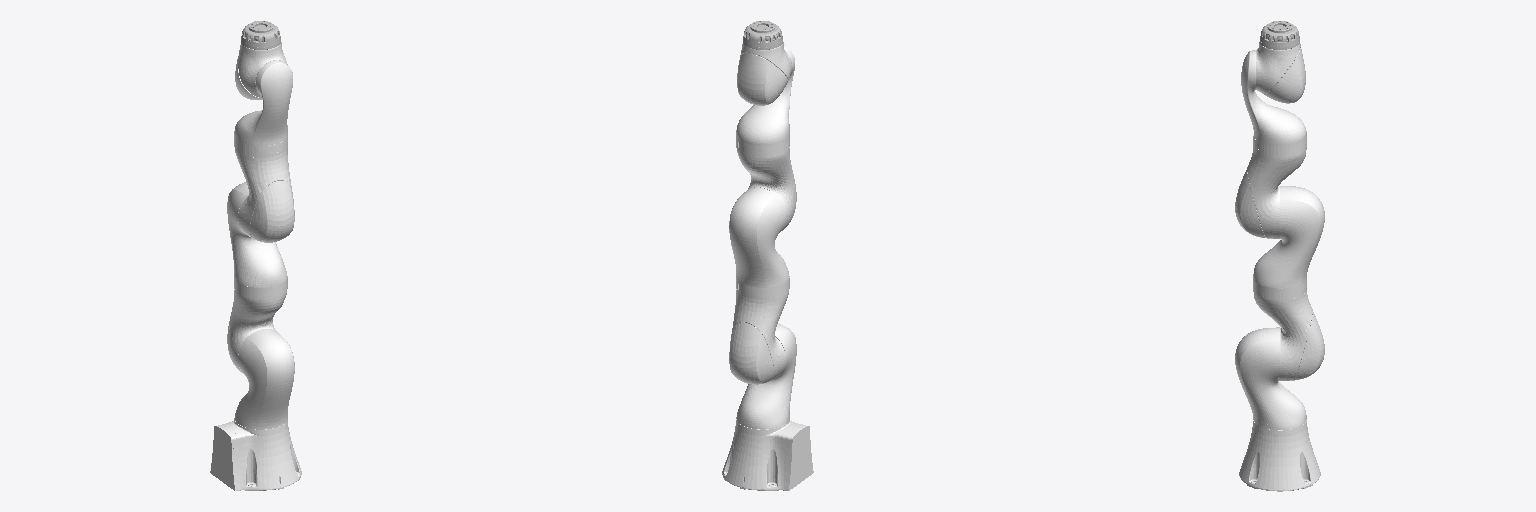
URDF robot description (iiwa7):
<?xml version="1.0" ?>
<!-- =================================================================================== -->
<!-- |    This document was autogenerated by xacro from iiwa7.urdf.xacro               | -->
<!-- |    EDITING THIS FILE BY HAND IS NOT RECOMMENDED                                 | -->
<!-- =================================================================================== -->
<robot name="iiwa7" xmlns:xacro="http://www.ros.org/wiki/xacro">
  <!-- Import Rviz colors -->
  <material name="Black">
    <color rgba="0.0 0.0 0.0 1.0"/>
  </material>
  <material name="Blue">
    <color rgba="0.0 0.0 0.8 1.0"/>
  </material>
  <material name="Green">
    <color rgba="0.0 0.8 0.0 1.0"/>
  </material>
  <material name="Grey">
    <color rgba="0.4 0.4 0.4 1.0"/>
  </material>
  <material name="Glas">
    <color rgba="0.4 0.4 0.4 0.1"/>
  </material>
  <material name="Orange">
    <color rgba="1.0 0.423529411765 0.0392156862745 1.0"/>
  </material>
  <material name="Brown">
    <color rgba="0.870588235294 0.811764705882 0.764705882353 1.0"/>
  </material>
  <material name="Red">
    <color rgba="0.8 0.0 0.0 1.0"/>
  </material>
  <material name="White">
    <color rgba="1.0 1.0 1.0 1.0"/>
  </material>
  <material name="Silver">
    <color rgba="0.82 0.82 0.82 1.0"/>
  </material>


  <link name="iiwa_link_0">
    <visual>
      <origin rpy="0 0 0" xyz="0 0 0"/>
      <geometry>
        <mesh filename="../meshes/iiwa7_third/visual/link_0.obj"/>
      </geometry>
      <material name="White"/>
    </visual>
  </link>
  <!-- joint between link_0 and link_1 -->
  <joint name="iiwa_joint_1" type="revolute">
    <parent link="iiwa_link_0"/>
    <child link="iiwa_link_1"/>
    <origin rpy="0 0 0" xyz="0 0 0.15"/>
    <axis xyz="0 0 1"/>
  </joint>
  <link name="iiwa_link_1">
    <visual>
      <origin rpy="0 0 0" xyz="0 0 0.0075"/>
      <geometry>
        <mesh filename="../meshes/iiwa7_third/visual/link_1.obj"/>
      </geometry>
      <material name="White"/>
    </visual>
  </link>
  <joint name="iiwa_joint_2" type="revolute">
    <parent link="iiwa_link_1"/>
    <child link="iiwa_link_2"/>
    <origin rpy="1.57079632679   0 3.14159265359" xyz="0 0 0.19"/>
    <axis xyz="0 0 1"/>
  </joint>
  <link name="iiwa_link_2">

    <visual>
      <origin rpy="0 0 0" xyz="0 0 0"/>
      <geometry>
        <mesh filename="../meshes/iiwa7_third/visual/link_2.obj"/>
      </geometry>
      <material name="White"/>
    </visual>
  </link>
  <joint name="iiwa_joint_3" type="revolute">
    <parent link="iiwa_link_2"/>
    <child link="iiwa_link_3"/>
    <origin rpy="1.57079632679 0 3.14159265359" xyz="0 0.21 0"/>
    <axis xyz="0 0 1"/>

  </joint>
  <link name="iiwa_link_3">
 
    <visual>
      <origin rpy="0 0 0" xyz="0 -0.00 -0.026"/>
      <geometry>
        <mesh filename="../meshes/iiwa7_third/visual/link_3.obj"/>
      </geometry>
      <material name="White"/>
    </visual>
  </link>
  <joint name="iiwa_joint_4" type="revolute">
    <parent link="iiwa_link_3"/>
    <child link="iiwa_link_4"/>
    <origin rpy="1.57079632679 0 0" xyz="0 0 0.19"/>
    <axis xyz="0 0 1"/>

  </joint>
  <link name="iiwa_link_4">

    <visual>
      <origin rpy="0 0 0" xyz="0 0 0"/>
      <geometry>
        <mesh filename="../meshes/iiwa7_third/visual/link_4.obj"/>
      </geometry>
      <material name="White"/>
    </visual>
  </link>
  <joint name="iiwa_joint_5" type="revolute">
    <parent link="iiwa_link_4"/>
    <child link="iiwa_link_5"/>
    <origin rpy="-1.57079632679 3.14159265359 0" xyz="0 0.21 0"/>
    <axis xyz="0 0 1"/>

  </joint>
  <link name="iiwa_link_5">
    <visual>
      <origin rpy="0 0 0" xyz="0 0 -0.026"/>
      <geometry>
        <mesh filename="../meshes/iiwa7_third/visual/link_5.obj"/>
      </geometry>
      <material name="White"/>
    </visual>
  </link>
  <joint name="iiwa_joint_6" type="revolute">
    <parent link="iiwa_link_5"/>
    <child link="iiwa_link_6"/>
    <origin rpy="1.57079632679 0 0" xyz="0 0.06070 0.19"/>
    <axis xyz="0 0 1"/>

  </joint>
  <link name="iiwa_link_6">
      <!-- <inertial>
        <origin rpy="0 0 0" xyz="0 0 0"/>
        <mass value="300"/>
        <inertia ixx="0.02" ixy="0" ixz="0" iyy="0.01" iyz="0" izz="0.01"/>
      </inertial> -->
    <visual>
      <origin rpy="0 0 0" xyz="0 0 0"/>
      <geometry>
        <mesh filename="../meshes/iiwa7_third/visual/link_6.obj"/>
      </geometry>
      <material name="White"/>
    </visual>
  </link>
  <joint name="iiwa_joint_7" type="revolute">
    <parent link="iiwa_link_6"/>
    <child link="iiwa_link_7"/>
    <origin rpy="-1.57079632679 3.14159265359 0" xyz="0 0.081 0.06070"/>
    <axis xyz="0 0 1"/>
  </joint> 
  <link name="iiwa_link_7">
    <inertial>
      <origin rpy="0 0 0" xyz="0 0 0.02"/>
      <mass value="0.3"/>
      <inertia ixx="0.001" ixy="0" ixz="0" iyy="0.001" iyz="0" izz="0.001"/>
    </inertial>

    <visual>
      <origin rpy="0 0 0" xyz="0 0 -0.0005"/>
      <geometry>
        <mesh filename="../meshes/iiwa7_third/visual/link_7.obj"/>
      </geometry>
      <material name="Silver"/>
    </visual>
  </link>
  <joint name="iiwa_joint_ee" type="fixed">
    <parent link="iiwa_link_7"/>
    <child link="iiwa_link_ee_kuka"/>
    <origin rpy="3.14159265359 3.14159265359 3.14159265359" xyz="0 0 0.045"/>
    <axis xyz="0 0 1"/>
  </joint>
  <link name="iiwa_link_ee_kuka">
  </link>
  <joint name="tool0_joint" type="fixed">
    <parent link="iiwa_link_7"/>
    <child link="iiwa_link_ee"/>
    <origin rpy="0 -1.57079632679 0" xyz="0 0 0.045"/>
  </joint>
  <link name="iiwa_link_ee">
  </link>
  <frame link="iiwa_link_ee" name="iiwa_frame_ee" 
      rpy="3.141592653589793 -1.570796326794897 0" xyz="0 0 0"/>  

  <!-- <joint name="kuka_connector_joint" type="fixed">
    <parent link="iiwa_link_ee_kuka"/>
    <child link="kuka_connector"/>
    <origin rpy="0 0 0" xyz="0 0 0.2"/>
  </joint>
  <link name="kuka_connector">
    <visual>
      <origin rpy="0 0 0" xyz="0 0 0"/>
      <geometry>
        <mesh filename="../meshes/iiwa7_third/visual/kuka_connector.obj"/>
      </geometry>
      <material name="Blue"/>
    </visual>
  </link> -->

  <joint name="wsg_grab_point_joint" type="fixed">
    <parent link="iiwa_link_7"/>
    <child link="wsg_grab_point"/>
    <origin rpy="0 0 3.141592653589793" xyz="0 0 0.2"/>
  </joint>
  <link name="wsg_grab_point">
  </link>

  <joint name="wsg_grab_point2_joint" type="fixed">
    <parent link="iiwa_link_7"/>
    <child link="wsg_grab_point2"/>
    <origin rpy="0 0 3.141592653589793" xyz="0 0 0.225"/>
  </joint>
  <link name="wsg_grab_point2">
    <!-- <visual>
      <origin xyz="0 0 0" rpy="0 0 0" />
      <geometry>
        <mesh filename="../meshes/iiwa7_third/visual/link_0.obj"/>
      </geometry>
      <material name="Grey"/>
    </visual> -->
  </link>
    
  <!--Extensions -->
  <!-- Load Gazebo lib and set the robot namespace -->
  <gazebo>
    <plugin filename="libgazebo_ros_control.so" name="gazebo_ros_controller">
      <robotNamespace>/iiwa</robotNamespace>
    </plugin>
  </gazebo>
  <!-- Link0 -->
  <gazebo reference="iiwa_link_0">
    <material>Gazebo/Grey</material>
    <mu1>0.2</mu1>
    <mu2>0.2</mu2>
  </gazebo>
  <!-- Link1 -->
  <gazebo reference="iiwa_link_1">
    <material>Gazebo/Orange</material>
    <mu1>0.2</mu1>
    <mu2>0.2</mu2>
  </gazebo>
  <!-- Link2 -->
  <gazebo reference="iiwa_link_2">
    <material>Gazebo/Orange</material>
    <mu1>0.2</mu1>
    <mu2>0.2</mu2>
  </gazebo>
  <!-- Link3 -->
  <gazebo reference="iiwa_link_3">
    <material>Gazebo/Orange</material>
    <mu1>0.2</mu1>
    <mu2>0.2</mu2>
  </gazebo>
  <!-- Link4 -->
  <gazebo reference="iiwa_link_4">
    <material>Gazebo/Orange</material>
    <mu1>0.2</mu1>
    <mu2>0.2</mu2>
  </gazebo>
  <!-- Link5 -->
  <gazebo reference="iiwa_link_5">
    <material>Gazebo/Orange</material>
    <mu1>0.2</mu1>
    <mu2>0.2</mu2>
  </gazebo>
  <!-- Link6 -->
  <gazebo reference="iiwa_link_6">
    <material>Gazebo/Orange</material>
    <mu1>0.2</mu1>
    <mu2>0.2</mu2>
  </gazebo>
  <gazebo reference="iiwa_link_7">
    <material>Gazebo/Orange</material>
    <mu1>0.2</mu1>
    <mu2>0.2</mu2>
  </gazebo>
  <gazebo reference="kuka_connector">
    <material>Gazebo/Orange</material>
    <mu1>0.2</mu1>
    <mu2>0.2</mu2>
  </gazebo>
  <!-- Link7 -->
   <!-- <gazebo reference="iiwa_link_7">
    <material>Gazebo/Grey</material>
    <mu1>0.2</mu1>
    <mu2>0.2</mu2>
  </gazebo>  -->
  <transmission name="iiwa_tran_1">
    <robotNamespace>/iiwa</robotNamespace>
    <type>transmission_interface/SimpleTransmission</type>
    <joint name="iiwa_joint_1">
      <hardwareInterface>PositionJointInterface</hardwareInterface>
    </joint>
    <actuator name="iiwa_motor_1">
      <hardwareInterface>PositionJointInterface</hardwareInterface>
      <mechanicalReduction>1</mechanicalReduction>
    </actuator>
  </transmission>
  <transmission name="iiwa_tran_2">
    <robotNamespace>/iiwa</robotNamespace>
    <type>transmission_interface/SimpleTransmission</type>
    <joint name="iiwa_joint_2">
      <hardwareInterface>PositionJointInterface</hardwareInterface>
    </joint>
    <actuator name="iiwa_motor_2">
      <hardwareInterface>PositionJointInterface</hardwareInterface>
      <mechanicalReduction>1</mechanicalReduction>
    </actuator>
  </transmission>
  <transmission name="iiwa_tran_3">
    <robotNamespace>/iiwa</robotNamespace>
    <type>transmission_interface/SimpleTransmission</type>
    <joint name="iiwa_joint_3">
      <hardwareInterface>PositionJointInterface</hardwareInterface>
    </joint>
    <actuator name="iiwa_motor_3">
      <hardwareInterface>PositionJointInterface</hardwareInterface>
      <mechanicalReduction>1</mechanicalReduction>
    </actuator>
  </transmission>
  <transmission name="iiwa_tran_4">
    <robotNamespace>/iiwa</robotNamespace>
    <type>transmission_interface/SimpleTransmission</type>
    <joint name="iiwa_joint_4">
      <hardwareInterface>PositionJointInterface</hardwareInterface>
    </joint>
    <actuator name="iiwa_motor_4">
      <hardwareInterface>PositionJointInterface</hardwareInterface>
      <mechanicalReduction>1</mechanicalReduction>
    </actuator>
  </transmission>
  <transmission name="iiwa_tran_5">
    <robotNamespace>/iiwa</robotNamespace>
    <type>transmission_interface/SimpleTransmission</type>
    <joint name="iiwa_joint_5">
      <hardwareInterface>PositionJointInterface</hardwareInterface>
    </joint>
    <actuator name="iiwa_motor_5">
      <hardwareInterface>PositionJointInterface</hardwareInterface>
      <mechanicalReduction>1</mechanicalReduction>
    </actuator>
  </transmission>
  <transmission name="iiwa_tran_6">
    <robotNamespace>/iiwa</robotNamespace>
    <type>transmission_interface/SimpleTransmission</type>
    <joint name="iiwa_joint_6">
      <hardwareInterface>PositionJointInterface</hardwareInterface>
    </joint>
    <actuator name="iiwa_motor_6">
      <hardwareInterface>PositionJointInterface</hardwareInterface>
      <mechanicalReduction>1</mechanicalReduction>
    </actuator>
  </transmission>
   <transmission name="iiwa_tran_7">
    <robotNamespace>/iiwa</robotNamespace>
    <type>transmission_interface/SimpleTransmission</type>
    <joint name="iiwa_joint_7">
      <hardwareInterface>PositionJointInterface</hardwareInterface>
    </joint>
    <actuator name="iiwa_motor_7">
      <hardwareInterface>PositionJointInterface</hardwareInterface>
      <mechanicalReduction>1</mechanicalReduction>
    </actuator>
  </transmission> 
</robot>

--- Render facts (derived) ---
The picture shows the robot from 3 angles, left to right: view 1: azimuth 30°, elevation 25°; view 2: azimuth 150°, elevation 25°; view 3: azimuth 270°, elevation 25°; orthographic projection.
Model iiwa7 with 12 links and 11 joints (7 revolute, 4 fixed), rooted at iiwa_link_0, posed every joint at zero.
Visible links, largest first — view 1: iiwa_link_0, iiwa_link_1, iiwa_link_4, iiwa_link_5, iiwa_link_3, iiwa_link_2, iiwa_link_6, iiwa_link_7; view 2: iiwa_link_3, iiwa_link_0, iiwa_link_2, iiwa_link_1, iiwa_link_5, iiwa_link_6, iiwa_link_4, iiwa_link_7; view 3: iiwa_link_3, iiwa_link_1, iiwa_link_0, iiwa_link_2, iiwa_link_4, iiwa_link_5, iiwa_link_6, iiwa_link_7.
Link boxes in pixels (<box>): iiwa_link_0: <box>210,419,301,490</box>; iiwa_link_1: <box>234,329,294,429</box>; iiwa_link_4: <box>235,148,294,242</box>; iiwa_link_5: <box>234,60,292,157</box>; iiwa_link_3: <box>227,182,287,299</box>; iiwa_link_2: <box>227,289,287,372</box>; iiwa_link_6: <box>235,42,287,99</box>; iiwa_link_7: <box>241,21,280,49</box>; iiwa_link_3: <box>729,187,789,299</box>; iiwa_link_0: <box>722,419,813,490</box>; iiwa_link_2: <box>729,289,788,384</box>; iiwa_link_1: <box>736,324,796,429</box>; iiwa_link_5: <box>736,44,794,157</box>; iiwa_link_6: <box>737,42,791,105</box>; iiwa_link_4: <box>737,147,796,230</box>; iiwa_link_7: <box>743,21,782,49</box>; iiwa_link_3: <box>1253,186,1324,299</box>; iiwa_link_1: <box>1235,327,1306,429</box>; iiwa_link_0: <box>1239,420,1320,491</box>; iiwa_link_2: <box>1253,290,1324,380</box>; iiwa_link_4: <box>1235,148,1306,238</box>; iiwa_link_5: <box>1241,50,1306,157</box>; iiwa_link_6: <box>1256,41,1305,103</box>; iiwa_link_7: <box>1260,21,1299,49</box>.
Size in the robot's own frame: 0.2168 by 0.2292 by 1.27 metres.
Meshes: 8 distinct files referenced, 8 mesh visuals loaded (8 OBJ).